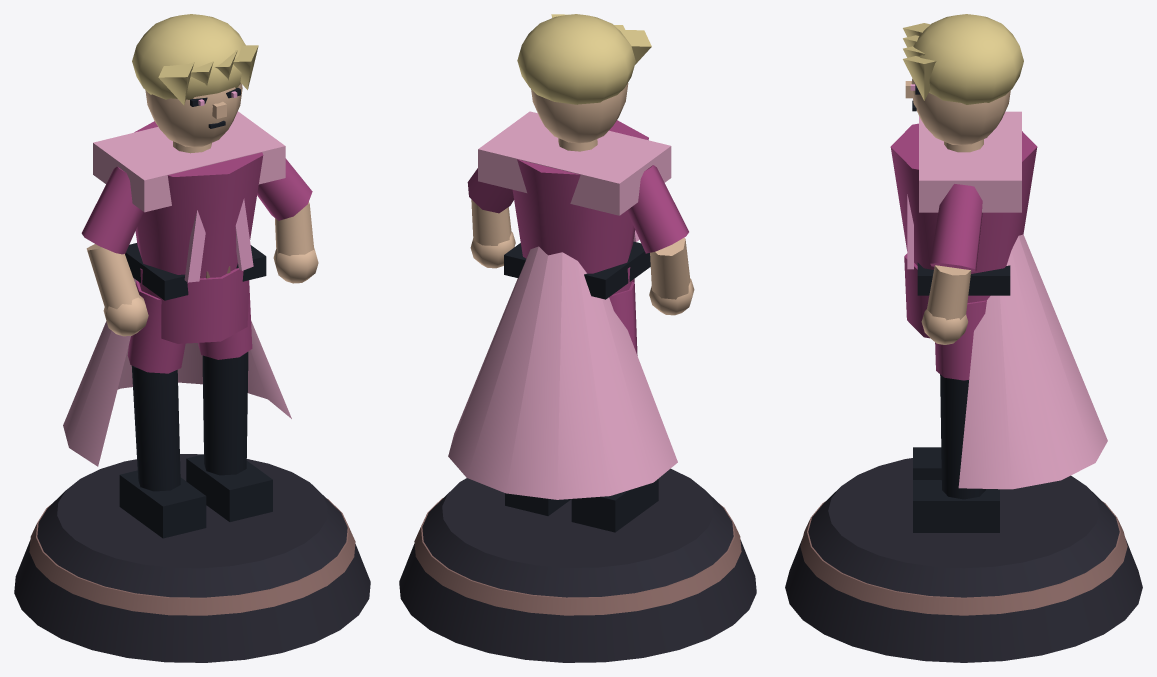
File: doflamingo.glb
The picture shows the model from 3 angles, left to right: view 1: azimuth 30°, elevation 25°; view 2: azimuth 150°, elevation 25°; view 3: azimuth 270°, elevation 25°; orthographic projection.
Parts seen in each view (by area): view 1: Placeholder Donquixote Doflamingo; view 2: Placeholder Donquixote Doflamingo; view 3: Placeholder Donquixote Doflamingo.
Boxes of the visible parts, x1=… form: Placeholder Donquixote Doflamingo: x1=14, y1=14, x2=370, y2=662; Placeholder Donquixote Doflamingo: x1=399, y1=14, x2=756, y2=662; Placeholder Donquixote Doflamingo: x1=785, y1=14, x2=1142, y2=662.
Size of the model in its own units: 0.54 by 0.9438 by 0.54.
